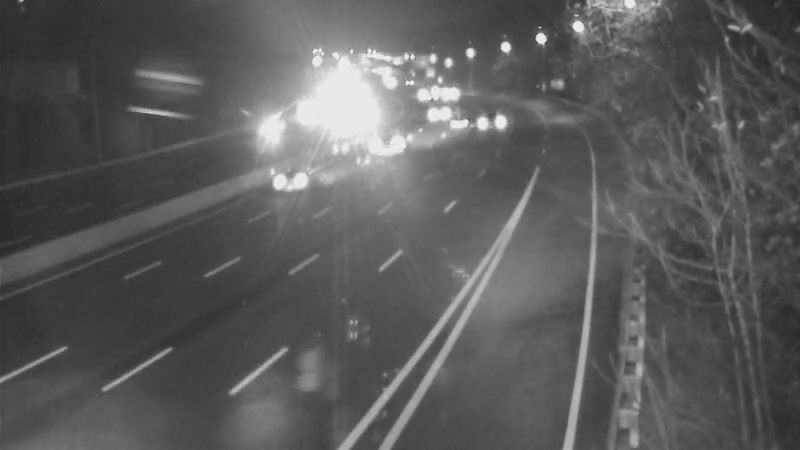vehicle: (250, 143, 330, 223), (414, 84, 464, 134), (473, 91, 523, 141), (362, 118, 412, 168), (237, 108, 287, 158)
